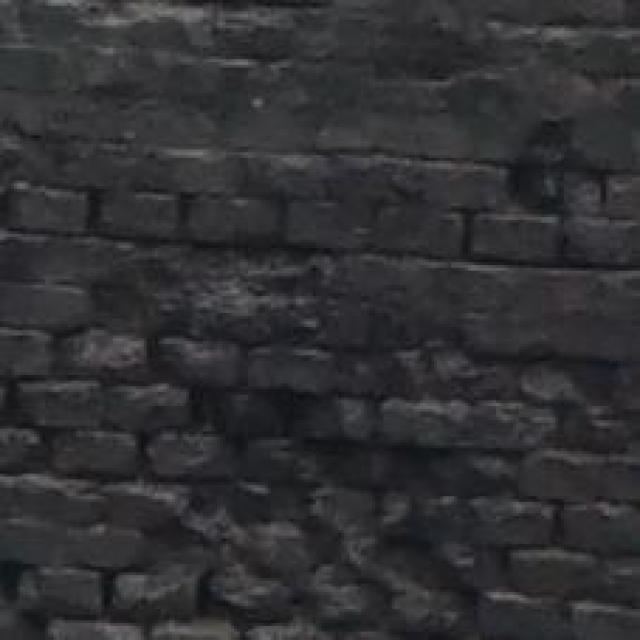Crack: (12, 236, 634, 640)
